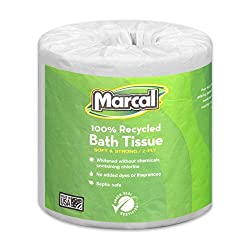Tissue: (34, 18, 216, 232)
